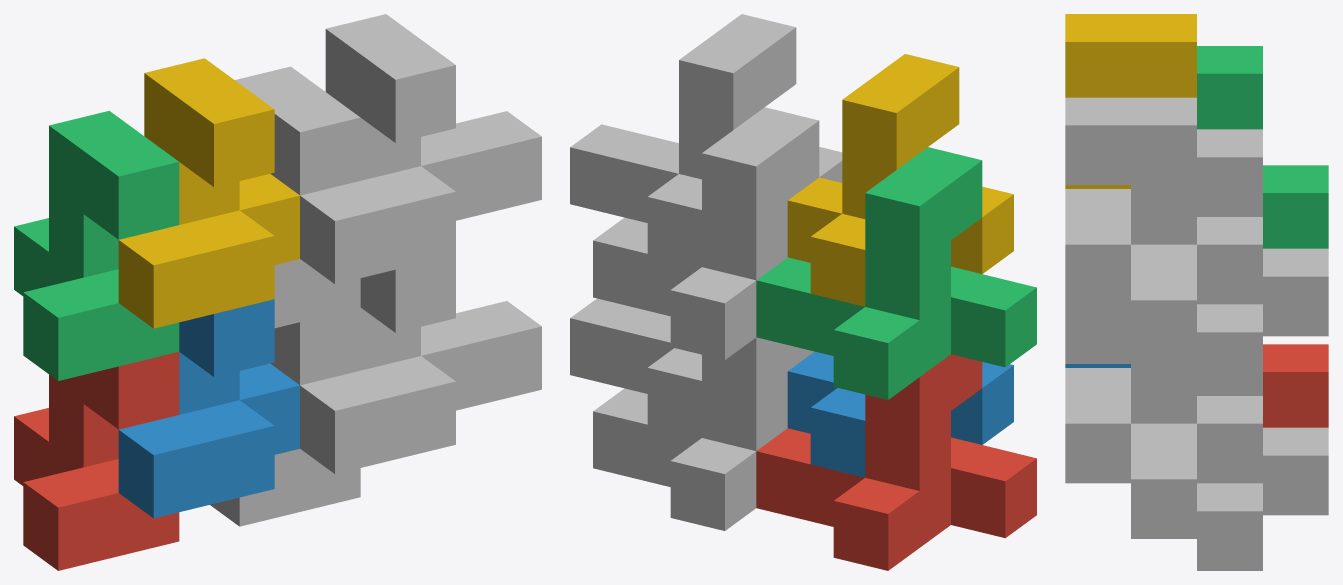
File: tiling.obj
The picture shows the model from 3 angles, left to right: view 1: azimuth 30°, elevation 25°; view 2: azimuth 150°, elevation 25°; view 3: azimuth 270°, elevation 25°; orthographic projection. The views are drawn at different scales.
Parts seen in each view (by area): view 1: copy_1_domain_8, copy_1_domain_4, copy_1_domain_6, copy_1_domain_3, copy_1_domain_2, copy_1_domain_1, copy_1_domain_7, copy_1_domain_5; view 2: copy_1_domain_3, copy_1_domain_1, copy_1_domain_7, copy_1_domain_8, copy_1_domain_4, copy_1_domain_5, copy_1_domain_6, copy_1_domain_2; view 3: copy_1_domain_8, copy_1_domain_6, copy_1_domain_7, copy_1_domain_5, copy_1_domain_4, copy_1_domain_3, copy_1_domain_1.
Boxes of the visible parts, left/top/right/bottom form: copy_1_domain_8: left=300, top=14, right=541, bottom=284; copy_1_domain_4: left=118, top=58, right=299, bottom=328; copy_1_domain_6: left=300, top=255, right=541, bottom=473; copy_1_domain_3: left=14, top=110, right=179, bottom=380; copy_1_domain_2: left=118, top=299, right=299, bottom=518; copy_1_domain_1: left=14, top=352, right=179, bottom=570; copy_1_domain_7: left=235, top=66, right=360, bottom=328; copy_1_domain_5: left=210, top=307, right=360, bottom=526; copy_1_domain_3: left=756, top=147, right=1036, bottom=399; copy_1_domain_1: left=756, top=354, right=1036, bottom=570; copy_1_domain_7: left=593, top=107, right=819, bottom=360; copy_1_domain_8: left=570, top=14, right=842, bottom=266; copy_1_domain_4: left=787, top=54, right=1013, bottom=306; copy_1_domain_5: left=593, top=337, right=814, bottom=530; copy_1_domain_6: left=570, top=298, right=701, bottom=437; copy_1_domain_2: left=787, top=351, right=1013, bottom=477; copy_1_domain_8: left=1065, top=97, right=1262, bottom=359; copy_1_domain_6: left=1065, top=304, right=1262, bottom=538; copy_1_domain_7: left=1197, top=129, right=1328, bottom=391; copy_1_domain_5: left=1197, top=392, right=1328, bottom=570; copy_1_domain_4: left=1065, top=14, right=1196, bottom=188; copy_1_domain_3: left=1197, top=46, right=1328, bottom=248; copy_1_domain_1: left=1263, top=344, right=1328, bottom=427.
Bounding box in the file's own units: 8 × 7 × 4.
